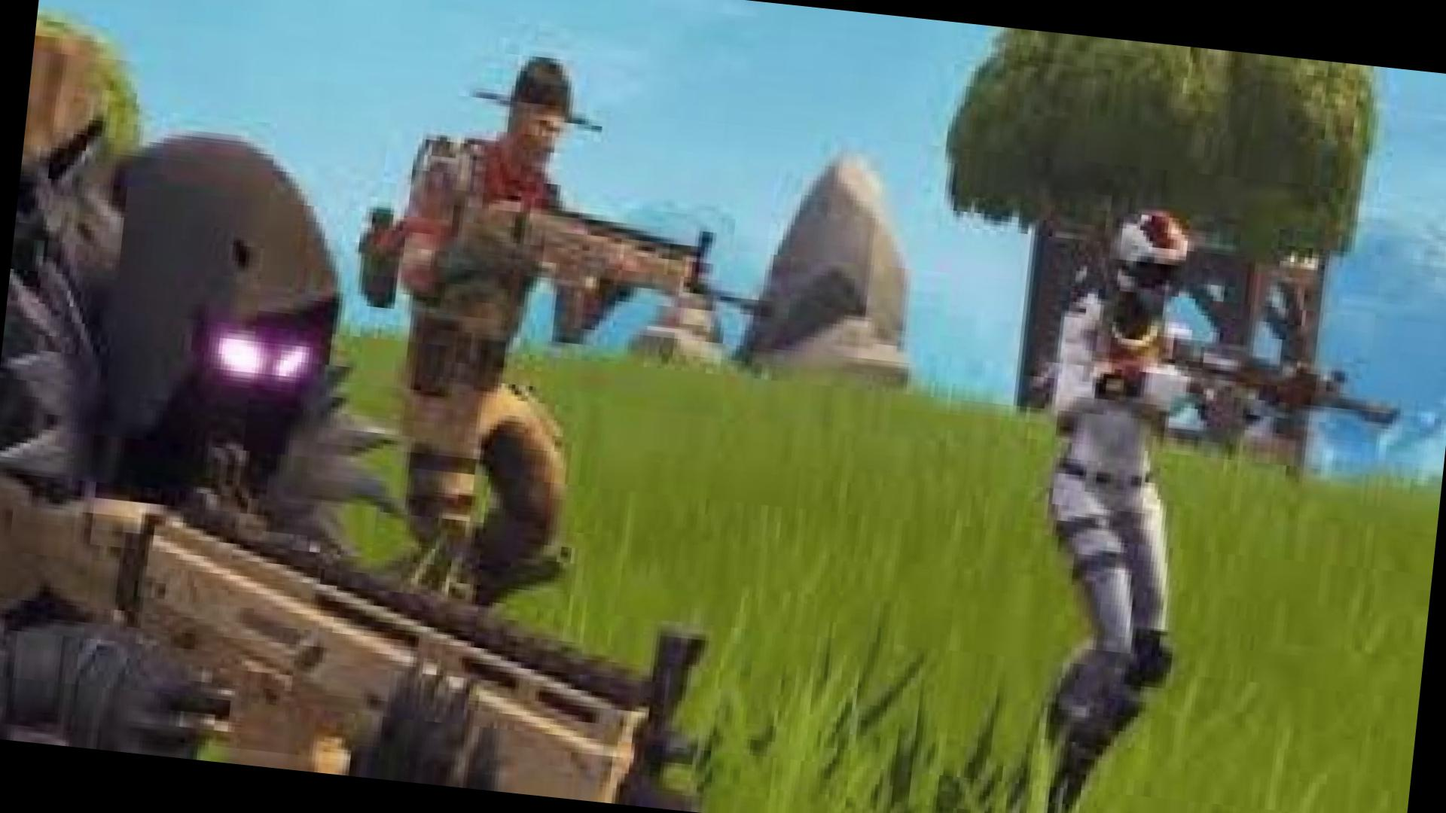player: (365, 58, 633, 622), (1035, 224, 1197, 813)
